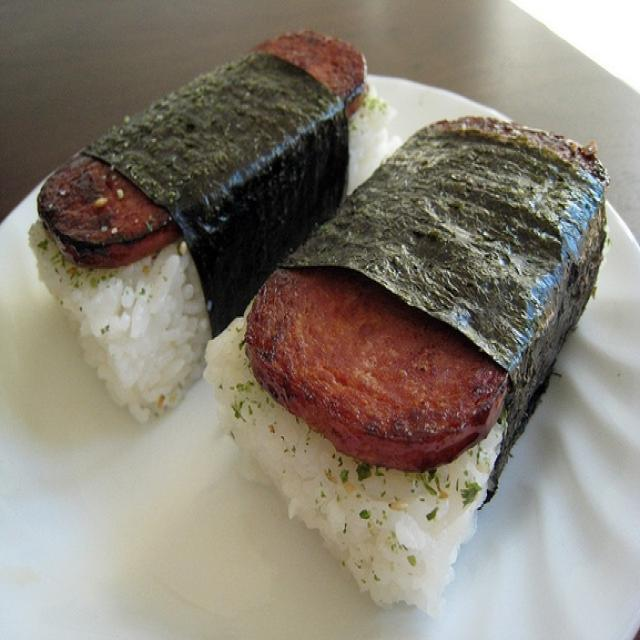寿司卷物: (11, 21, 621, 615)
